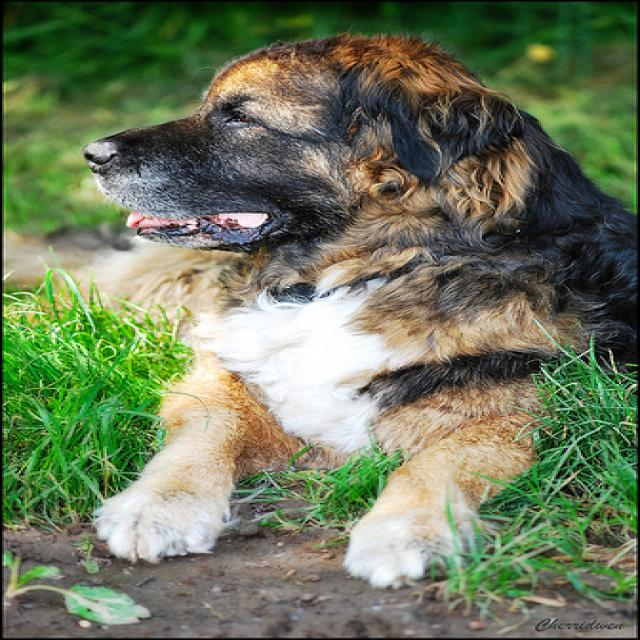dog-leonberger: (2, 19, 636, 594)
